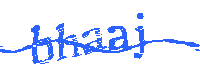a: (104, 22, 132, 52), (82, 26, 106, 56)
b: (31, 24, 53, 65)
h: (56, 23, 81, 59)
j: (132, 12, 147, 61)
